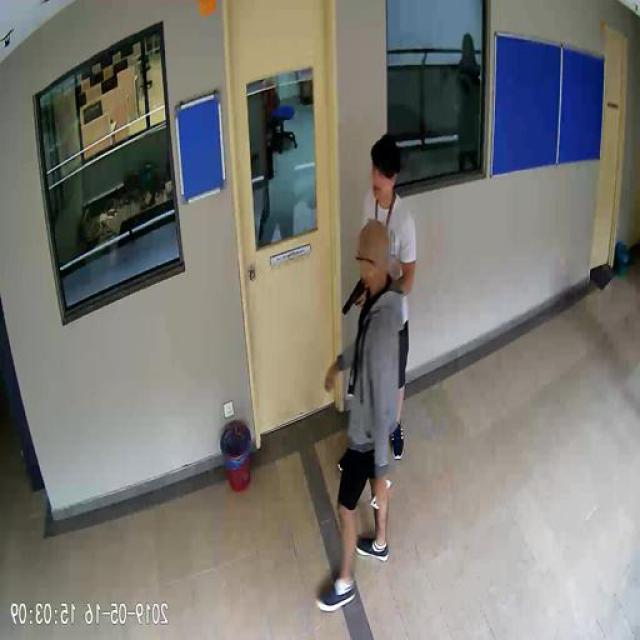Gun: (343, 274, 368, 316)
